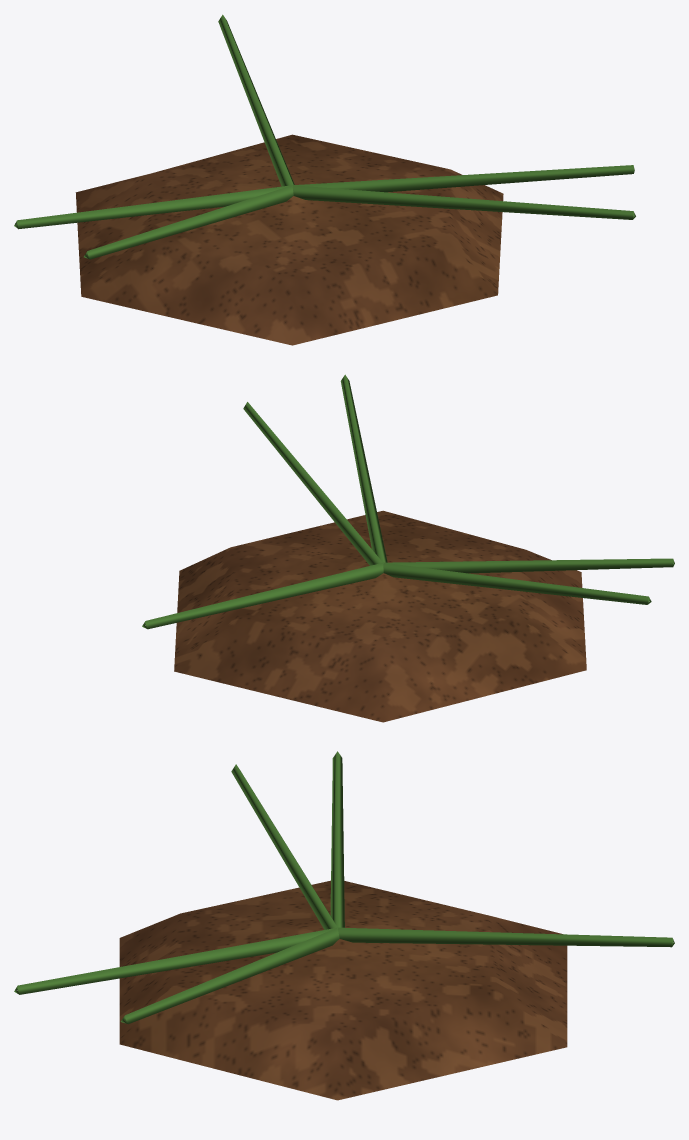
Rendered from plant-pumpkin-3-far.glb.
3 views of the same model, one above another, from view 1: azimuth 30°, elevation 25°; view 2: azimuth 150°, elevation 25°; view 3: azimuth 270°, elevation 25° (orthographic). The views are drawn at different scales.
Visible parts, largest first — view 1: plant-pumpkin-3-far; view 2: plant-pumpkin-3-far; view 3: plant-pumpkin-3-far.
Part boxes in pixels (x1,y1,x2,y2): plant-pumpkin-3-far: (14,14,635,345); plant-pumpkin-3-far: (142,374,674,722); plant-pumpkin-3-far: (14,751,674,1100).
Bounding box in the file's own units: 1.31 × 0.1866 × 1.07.
3 materials, 1 textured.
